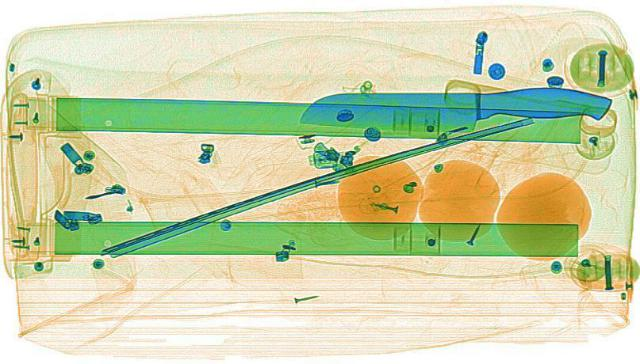Knife: (298, 84, 614, 135)
